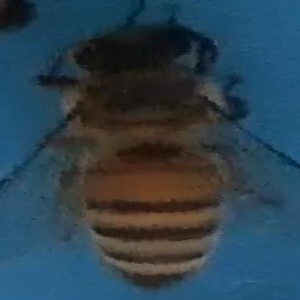bee: (37, 13, 283, 294)
